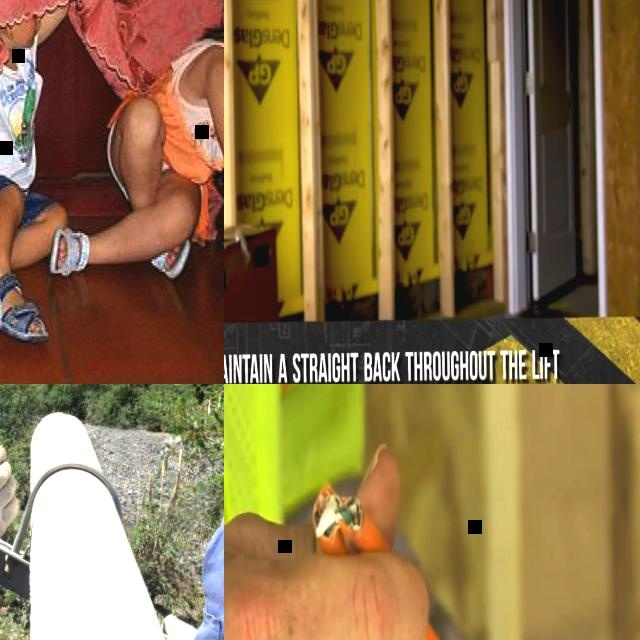NO-Mask: (15, 23, 38, 54)
NO-Safety Vest: (151, 37, 224, 184), (0, 51, 35, 187)
Person: (224, 384, 589, 640), (43, 0, 224, 282), (0, 0, 66, 346), (152, 384, 224, 640)
Safety Vest: (224, 384, 366, 636)
